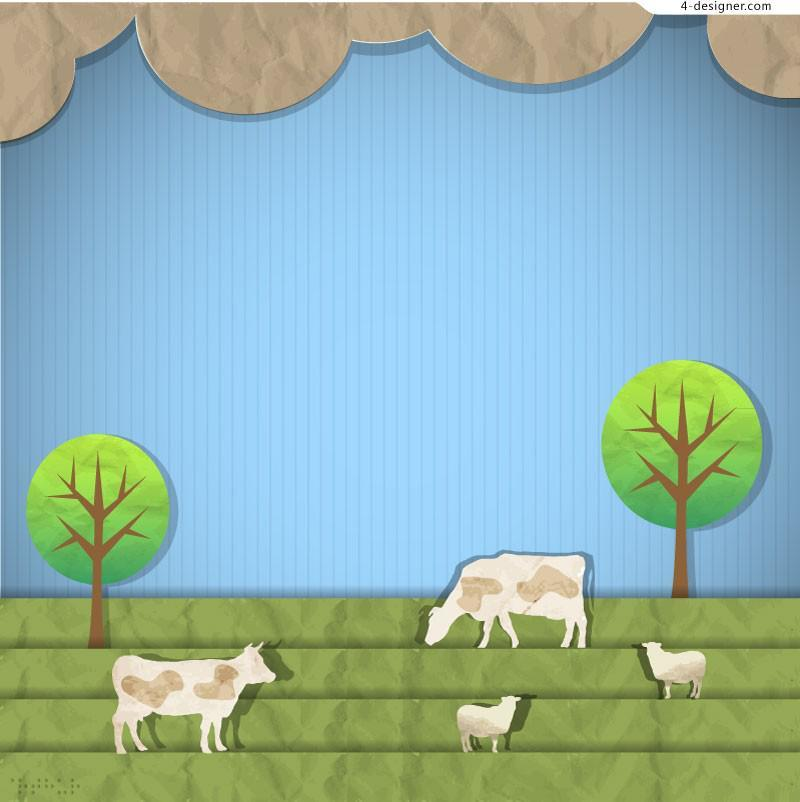cow: (413, 533, 607, 651), (95, 641, 292, 757)
sheep: (631, 632, 710, 706), (447, 692, 535, 756)
